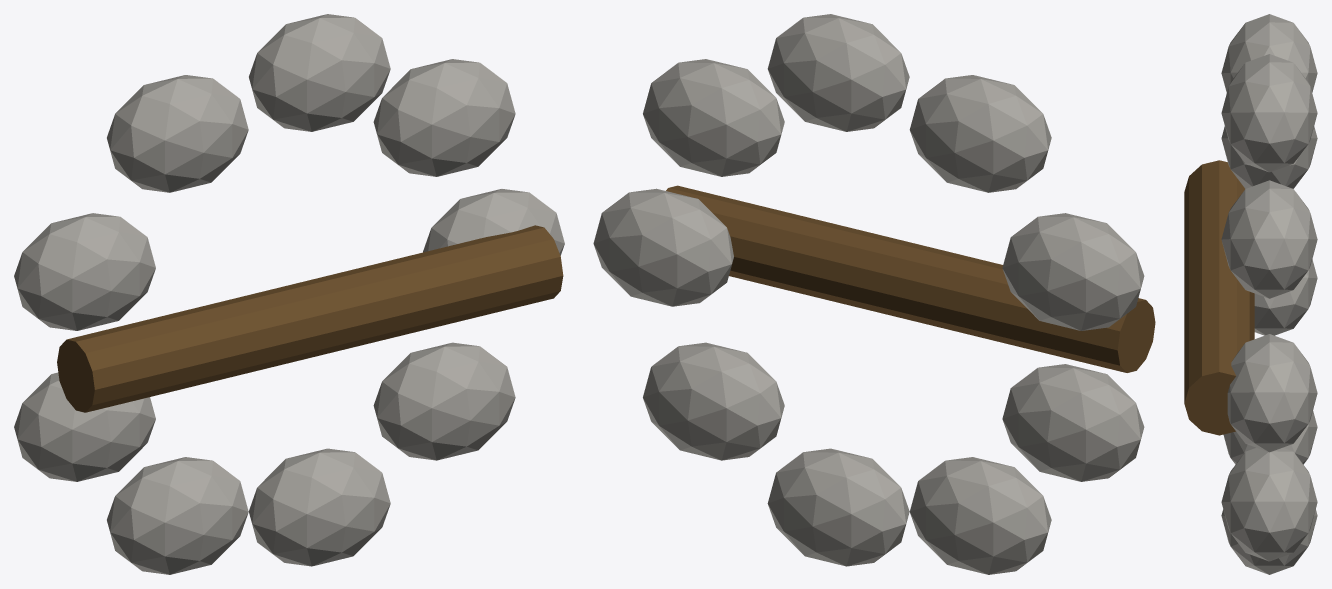
The model's file is campfire_unlit_r0_01.glb.
3 renders of one model, left to right at view 1: azimuth 30°, elevation 25°; view 2: azimuth 150°, elevation 25°; view 3: azimuth 270°, elevation 25°, orthographic. The views are drawn at different scales.
Parts seen in each view (by area): view 1: log0, stone1, stone7, stone3, stone4, stone2, stone6, stone8, stone5, stone0; view 2: log0, stone5, stone7, stone2, stone3, stone6, stone8, stone1, stone4, stone0; view 3: log0, stone1, stone2, stone8, stone0, stone3, stone5, stone4, stone7, stone6.
Part boxes in pixels (box(x1,y1,x2,y2)): log0: box(57, 225, 563, 412); stone1: box(373, 59, 515, 176); stone7: box(248, 448, 390, 566); stone3: box(107, 75, 248, 192); stone4: box(14, 213, 155, 330); stone2: box(249, 14, 390, 131); stone6: box(107, 457, 248, 574); stone8: box(373, 342, 515, 460); stone5: box(14, 372, 155, 481); stone0: box(423, 189, 564, 255); log0: box(666, 185, 1155, 372); stone5: box(1002, 364, 1144, 481); stone7: box(767, 448, 909, 566); stone2: box(767, 14, 909, 131); stone3: box(909, 75, 1051, 192); stone6: box(909, 457, 1051, 574); stone8: box(643, 342, 784, 460); stone1: box(643, 59, 784, 176); stone4: box(1002, 213, 1144, 330); stone0: box(593, 188, 733, 306); log0: box(1184, 160, 1254, 435); stone1: box(1221, 180, 1317, 298); stone2: box(1221, 54, 1317, 172); stone8: box(1221, 447, 1317, 561); stone0: box(1227, 334, 1317, 452); stone3: box(1221, 14, 1317, 92); stone5: box(1254, 259, 1317, 335); stone4: box(1221, 126, 1317, 188); stone7: box(1221, 509, 1317, 574); stone6: box(1223, 411, 1317, 464).
Size of the model in its own units: 1.16 by 1.11 by 0.266.
